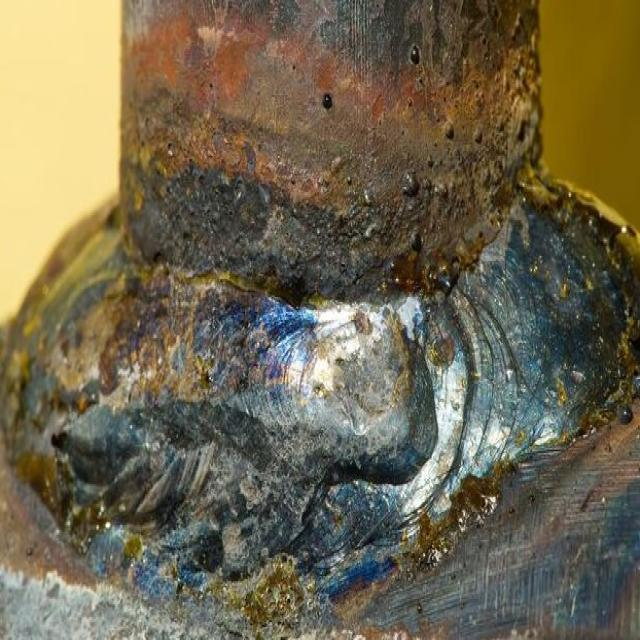Bad Welding: (0, 160, 640, 618)
